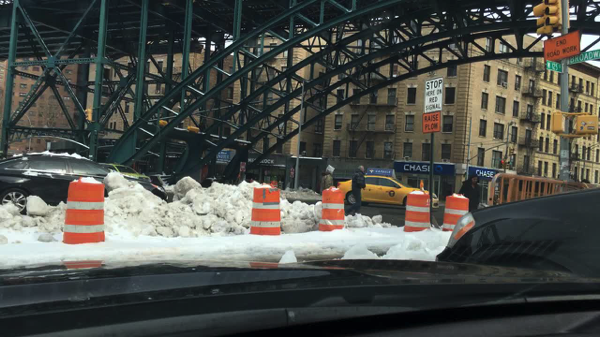car: (434, 182, 599, 280), (0, 151, 169, 218), (337, 175, 441, 211), (100, 164, 152, 184)
person: (345, 166, 367, 217), (459, 173, 480, 213), (319, 162, 335, 192)
traffic light: (531, 3, 549, 36), (543, 1, 561, 28), (578, 115, 598, 134), (551, 111, 566, 134), (83, 107, 92, 124), (186, 125, 199, 132), (508, 145, 514, 158), (499, 157, 505, 167), (507, 160, 513, 169), (158, 120, 167, 126)
traffic sign: (543, 31, 578, 61), (423, 77, 444, 113), (568, 51, 598, 64), (422, 112, 441, 131), (544, 61, 560, 72), (239, 161, 246, 173), (288, 168, 295, 178)
